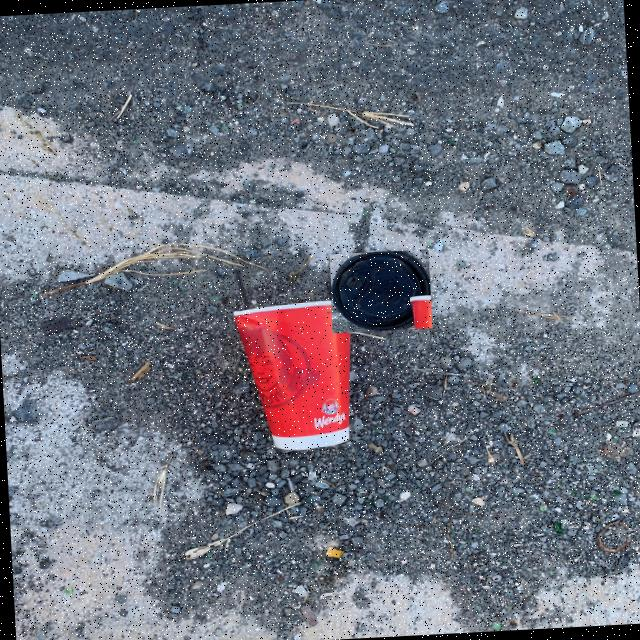Broken glass: (347, 519, 357, 526), (310, 472, 316, 480), (556, 524, 561, 533), (494, 622, 500, 629), (339, 535, 349, 539), (540, 506, 547, 511), (534, 378, 541, 383), (474, 475, 480, 480), (66, 588, 71, 594), (466, 488, 472, 492), (614, 490, 620, 494), (549, 430, 555, 433), (571, 491, 575, 494), (592, 494, 595, 498)
Paper cup: (234, 300, 352, 450)
Plastic lid: (332, 251, 431, 331)
Unlabeled litter: (326, 548, 356, 561)
